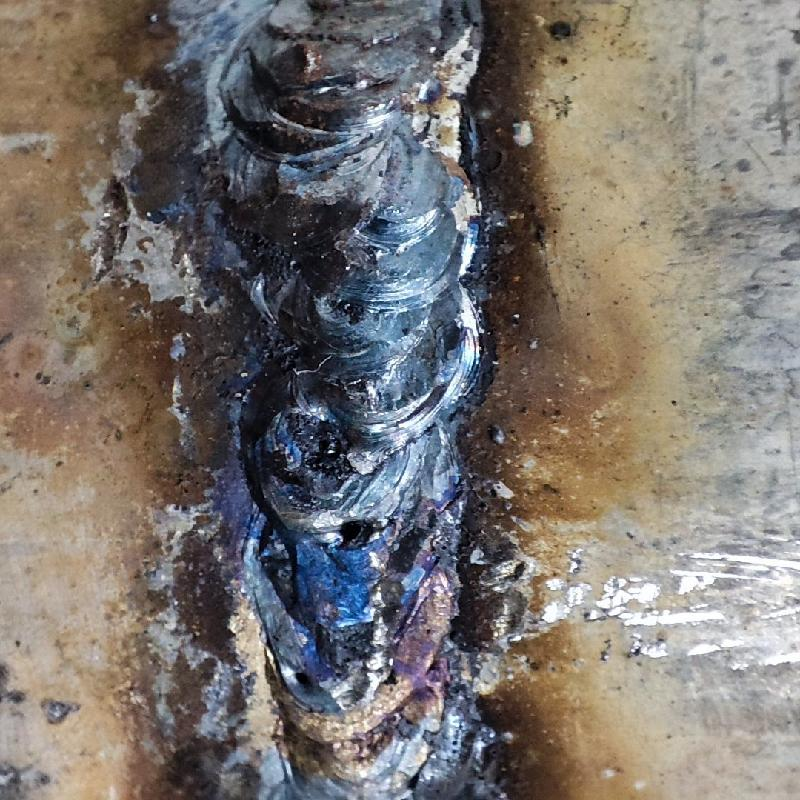Surface_pores: (323, 500, 380, 559), (278, 655, 335, 706)
